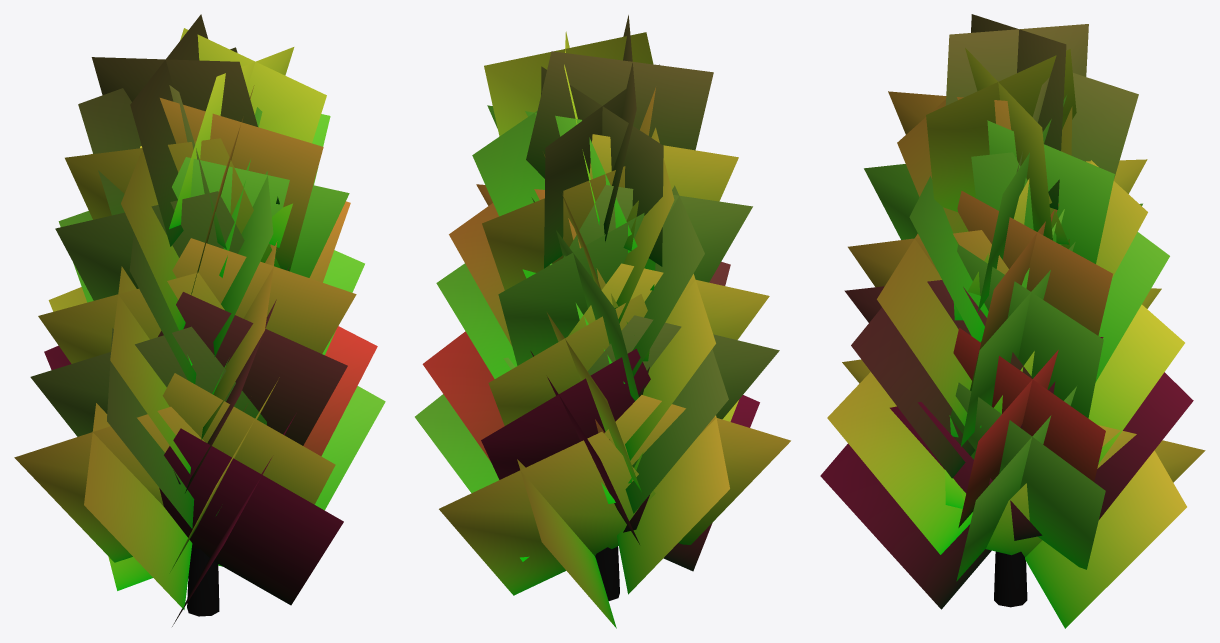
The model's file is Tree_2.fbx.
The picture shows the model from 3 angles, left to right: view 1: azimuth 30°, elevation 25°; view 2: azimuth 150°, elevation 25°; view 3: azimuth 270°, elevation 25°; orthographic projection. The views are drawn at different scales.
Parts seen in each view (by area): view 1: Tree_2; view 2: Tree_2; view 3: Tree_2.
Part boxes in pixels (left/top/right/bottom): Tree_2: left=14, top=14, right=385, bottom=626; Tree_2: left=415, top=15, right=790, bottom=628; Tree_2: left=820, top=14, right=1205, bottom=628.
Bounding box in the file's own units: 668 × 1121 × 689.
